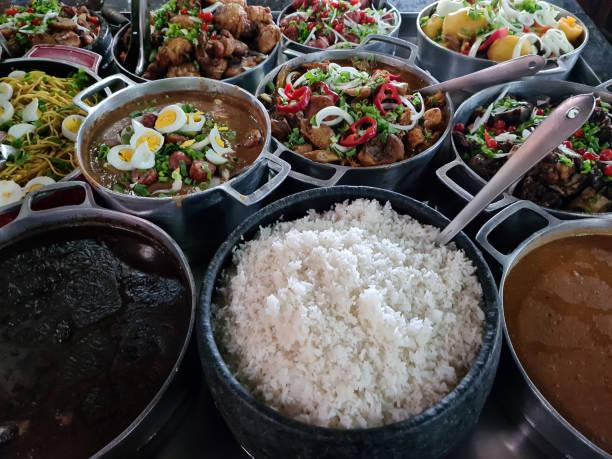Braised Crucian Carp: (194, 185, 498, 454), (1, 201, 198, 454), (71, 74, 294, 257), (254, 46, 451, 198), (439, 76, 608, 222), (108, 0, 278, 95), (412, 0, 588, 85), (274, 0, 401, 56)
